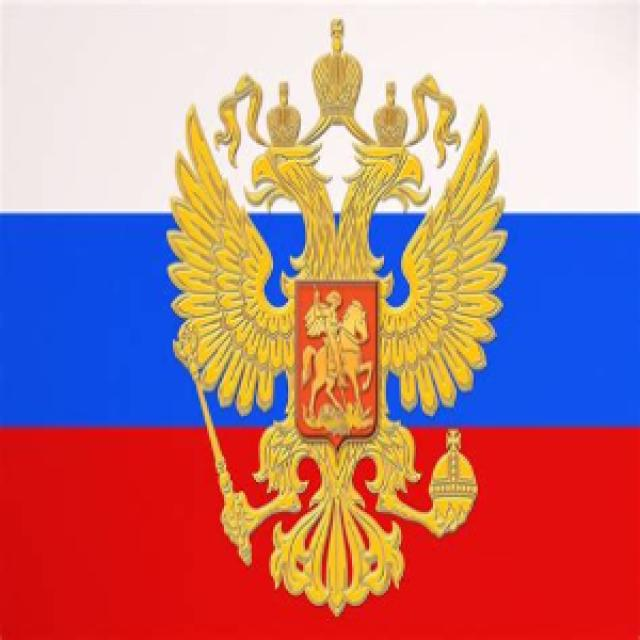russia: (3, 1, 639, 640)
